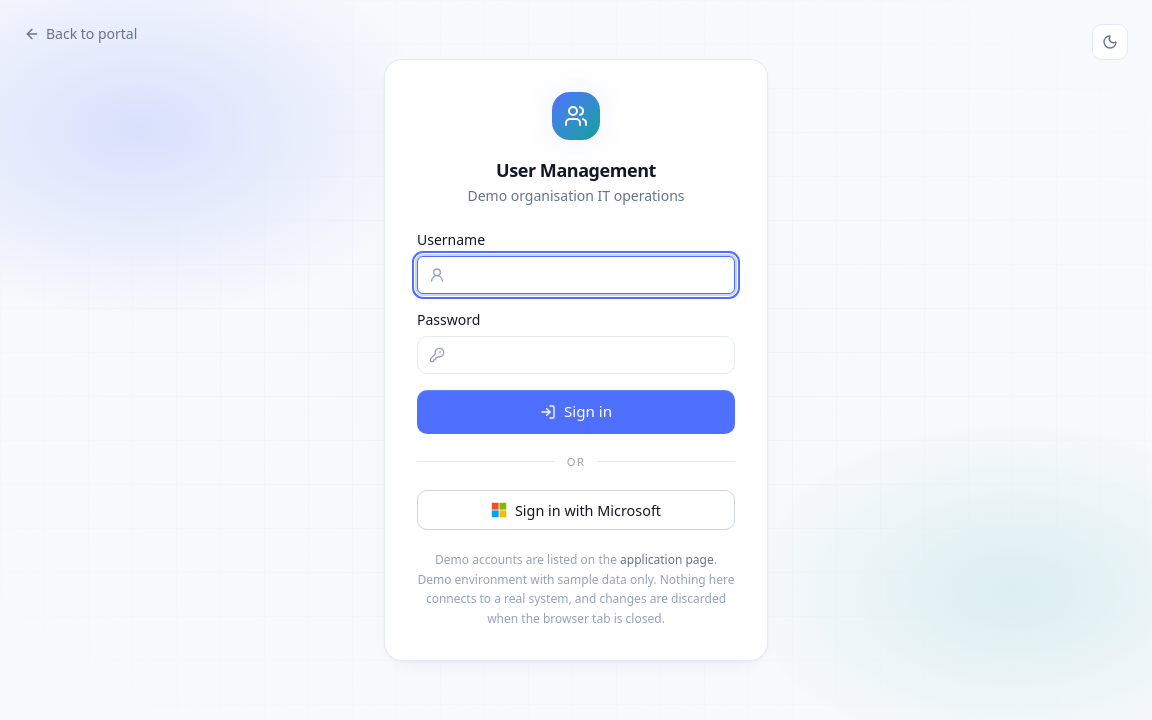
Scenario: User Management demo › signs in and shows the lifecycle tabs, with audit for admins only
Expected: the heading "User Management" is shown, [496,158,656,182]
Type "admin" into the field labelled "Username". click: {"x": 576, "y": 275}
box: [417,256,735,294]
Type "Admin@1234" into the password field labelled "Password". click: {"x": 576, "y": 355}
box: [417,336,735,374]
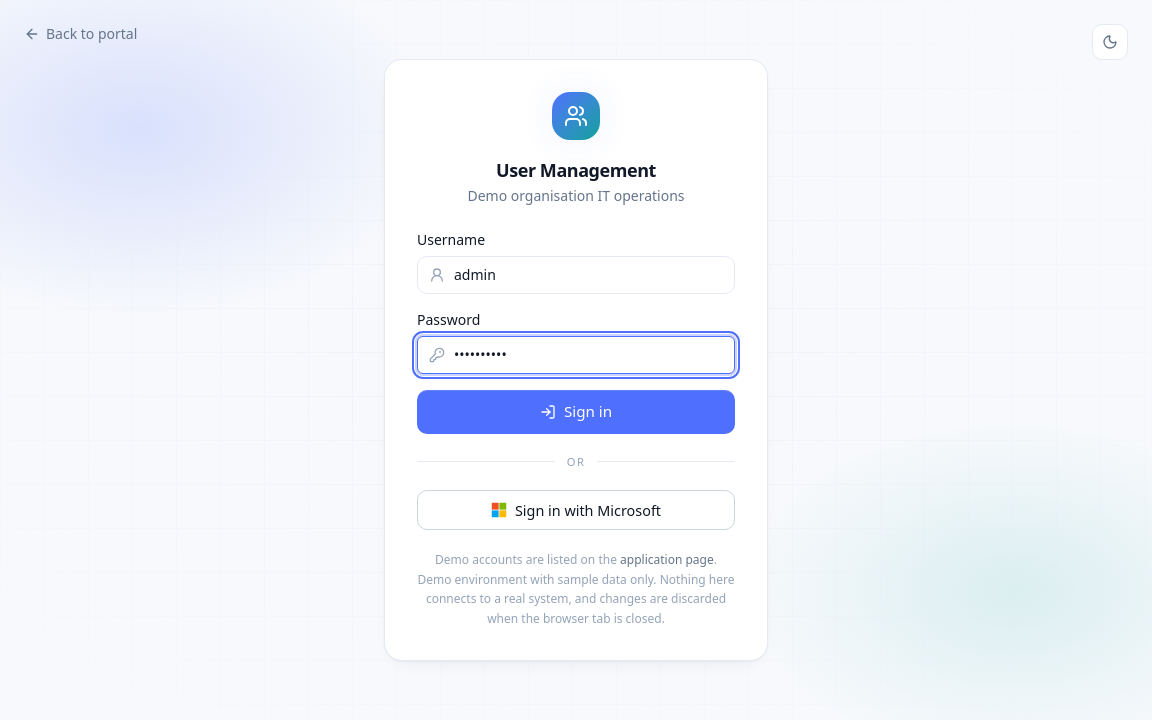
Click the button "Sign in". click: {"x": 576, "y": 412}
box: [417,390,735,434]
(page scrolled)
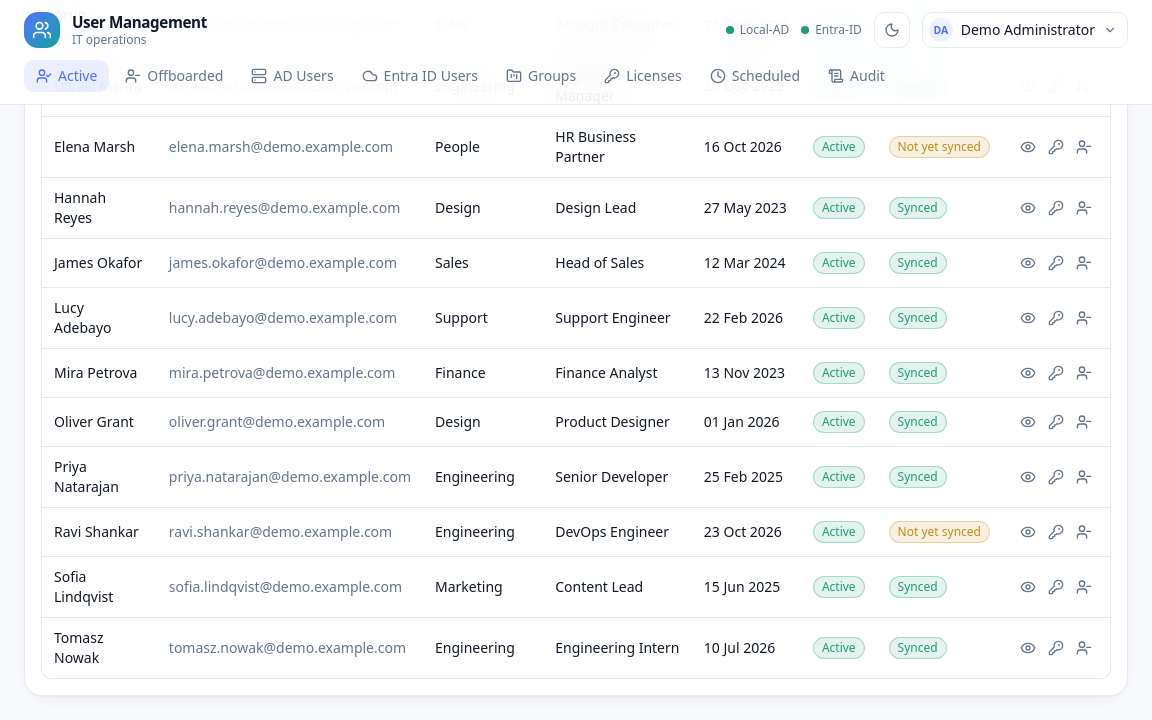
Now the tab "Active" is shown, box [24,60,109,92]
Now the tab "Offboarded" is shown, box [113,60,235,92]
Now the tab "AD Users" is shown, box [240,60,346,92]
Click the button named "offboard priya natarajan". click: {"x": 1084, "y": 477}
box: [1070,463,1098,491]
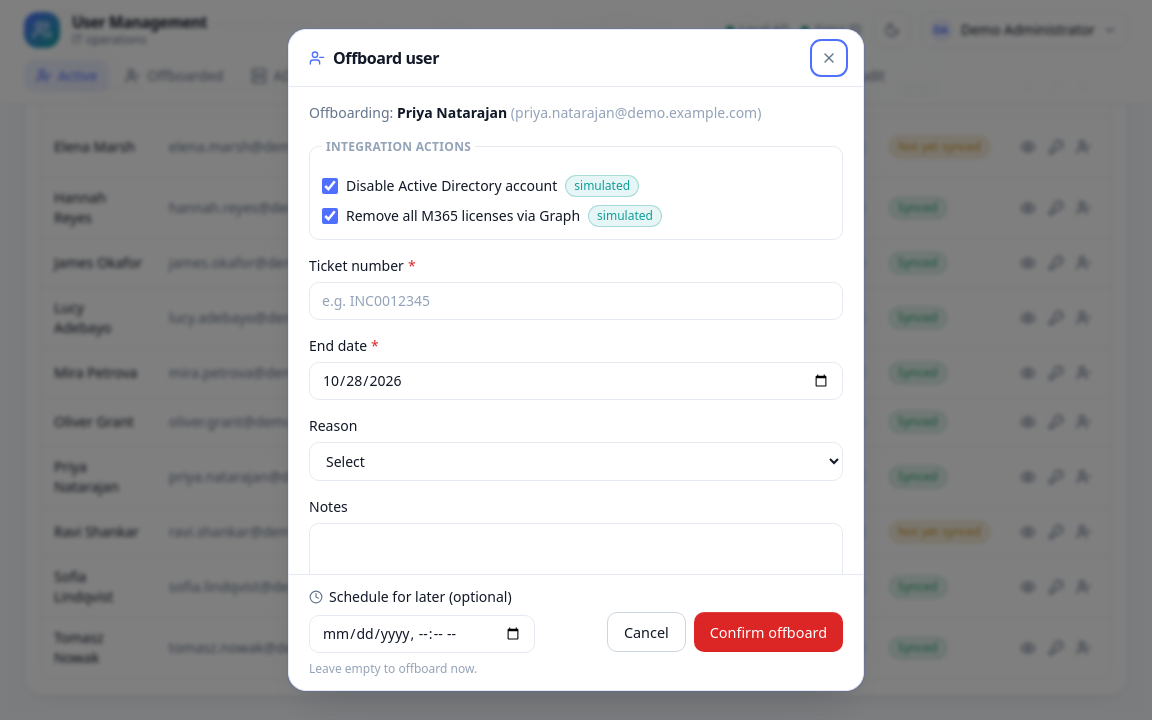
Type "INC0099999" into the field labelled "Ticket number*". click: {"x": 576, "y": 301}
box: [309,282,843,320]
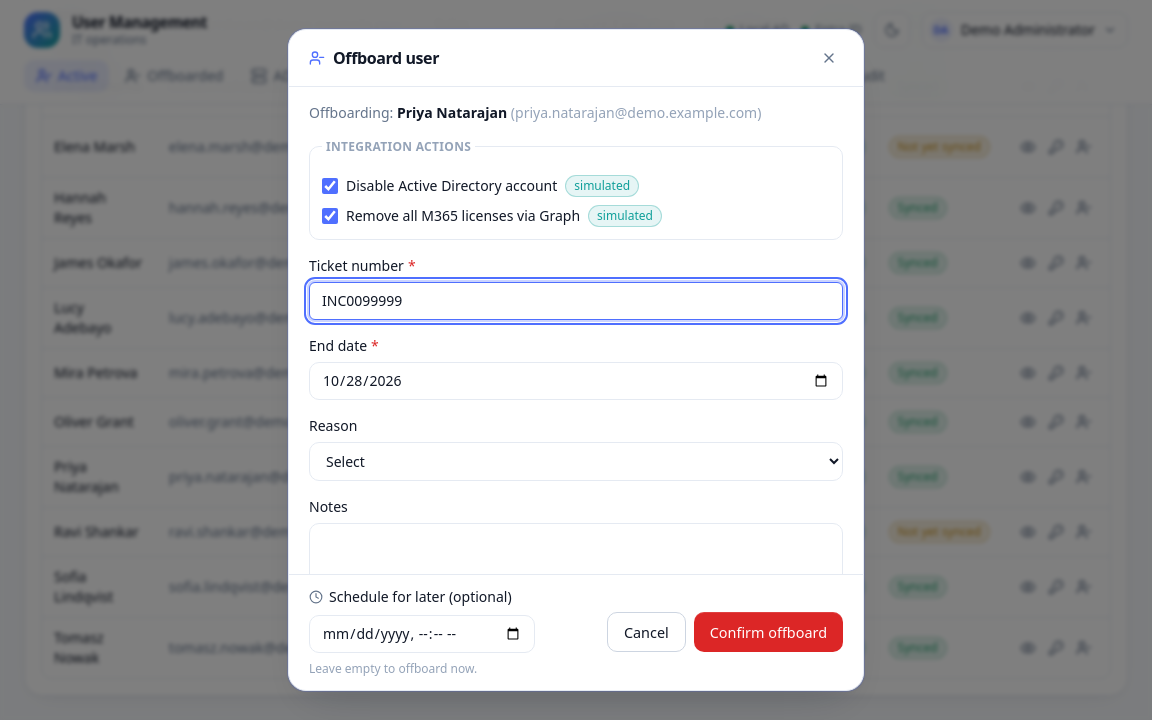
Click the button "Confirm offboard". click: {"x": 768, "y": 632}
box: [694,612,843,652]
(page scrolled)
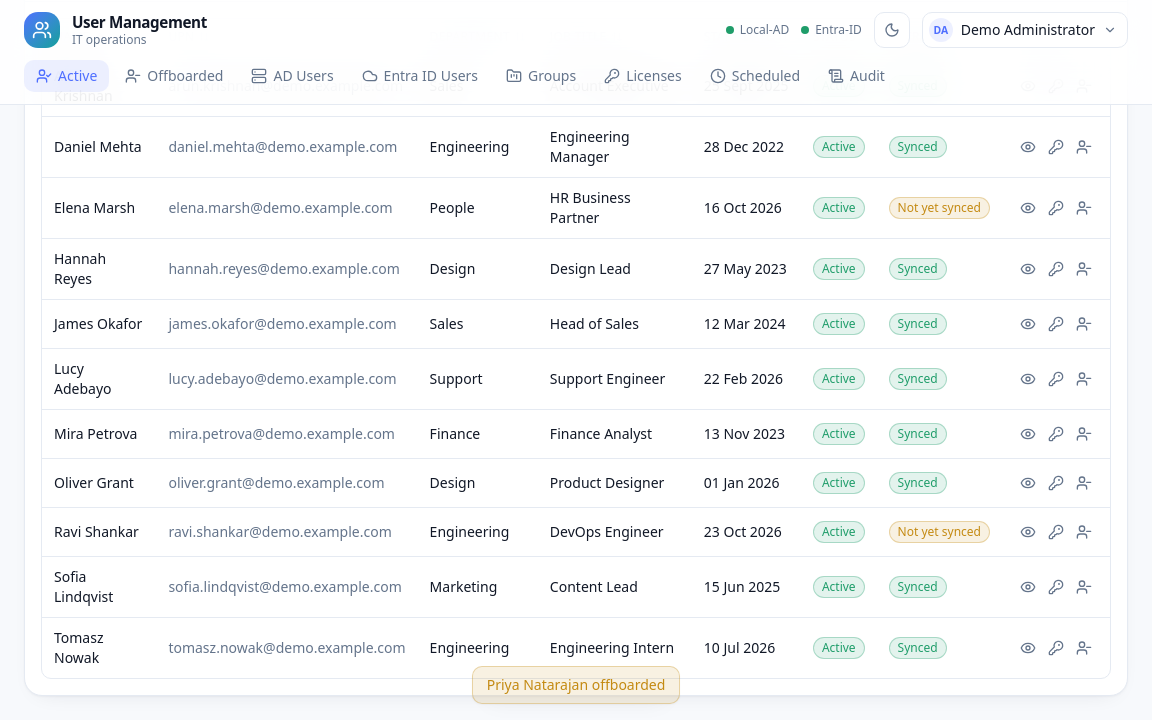
Click the tab "Offboarded". click: {"x": 174, "y": 76}
box: [113,60,235,92]
(page scrolled)
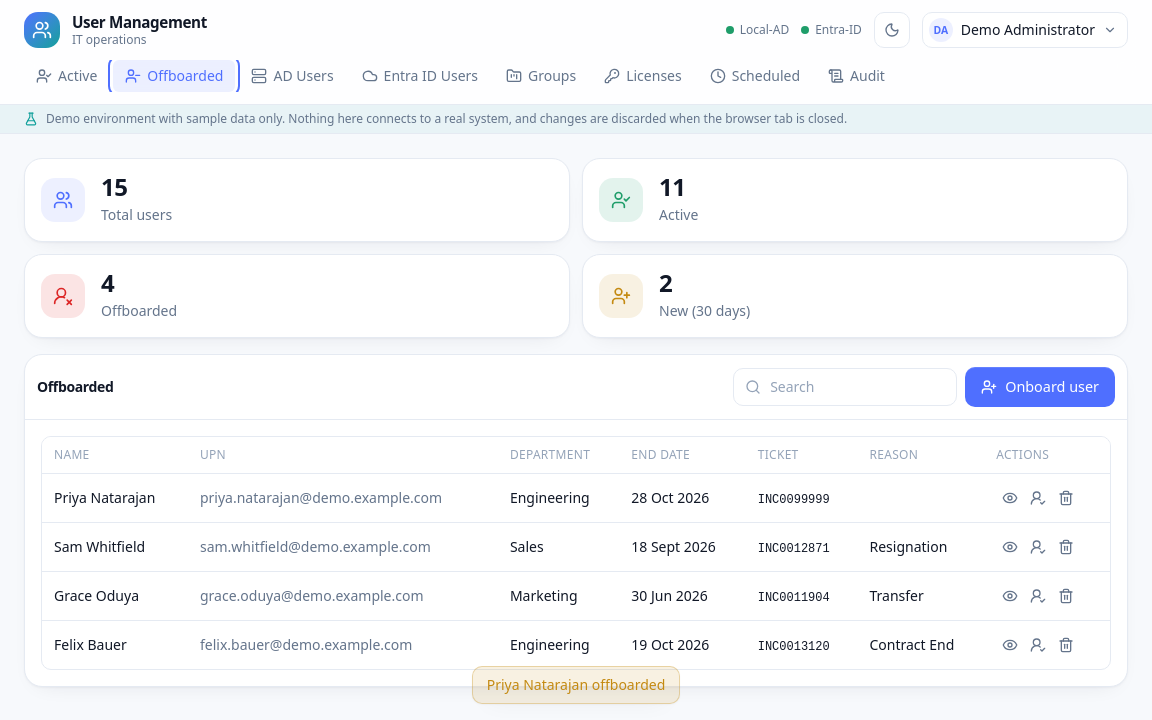
Now the text "Priya Natarajan" is shown, box [54,488,155,507]
Now the text "INC0099999" is shown, box [758,493,830,507]
